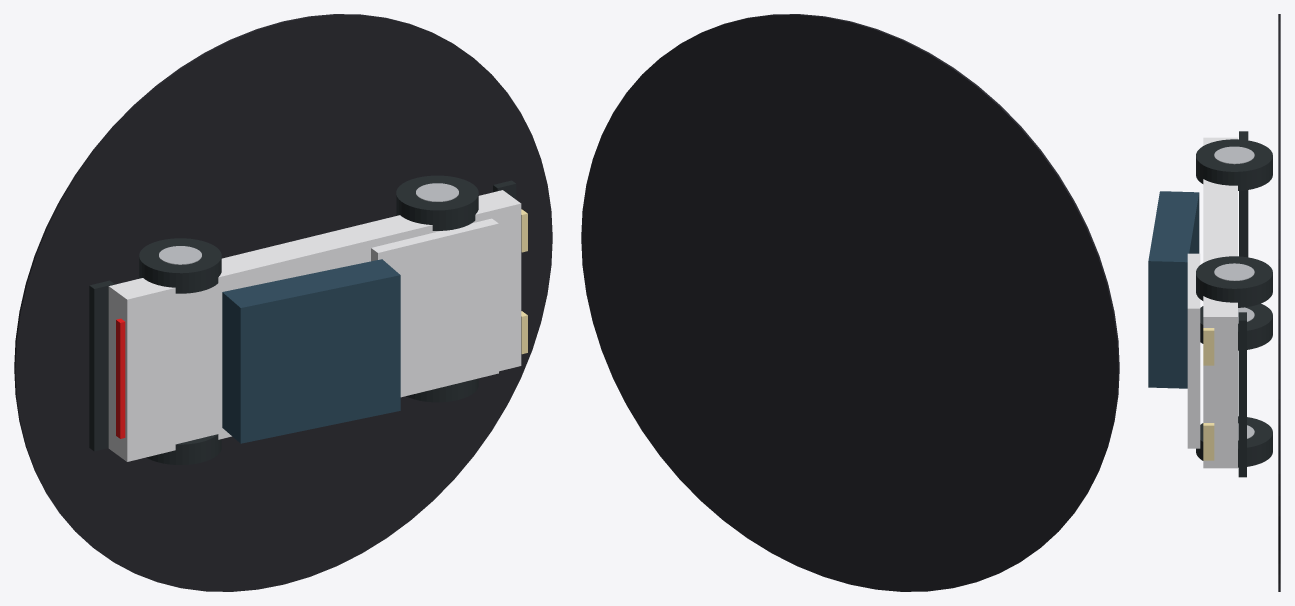
Rendered from koenigsegg-jesko.glb.
3 renders of one model, left to right at view 1: azimuth 30°, elevation 25°; view 2: azimuth 150°, elevation 25°; view 3: azimuth 270°, elevation 25°, orthographic. The views are drawn at different scales.
Parts seen in each view (by area): view 1: world; view 2: world; view 3: world.
Boxes of the visible parts, left/top/right/bottom form: world: left=14, top=14, right=552, bottom=591; world: left=581, top=14, right=1119, bottom=591; world: left=1148, top=14, right=1280, bottom=591.
Bounding box in the file's own units: 6.3 × 6.3 × 1.44.
